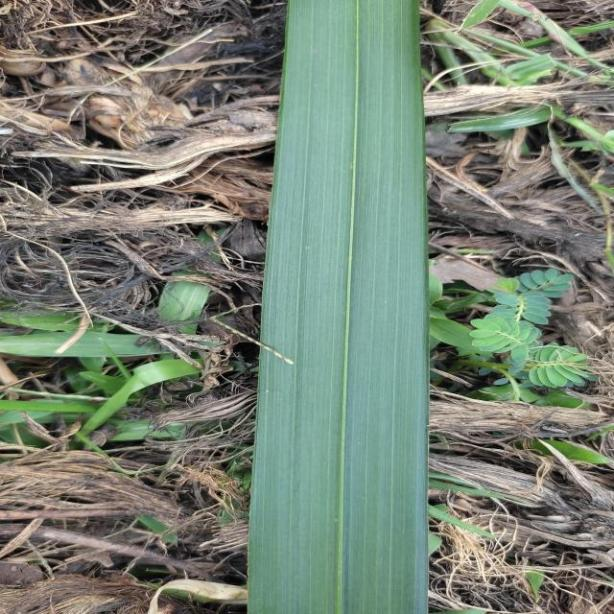Healthy: (249, 0, 432, 614)
